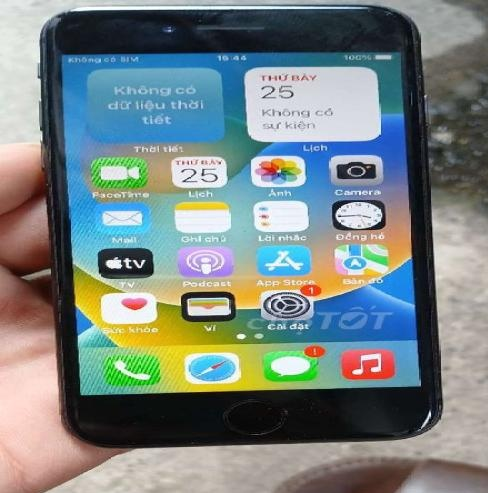scratch: (352, 2, 419, 48), (392, 401, 450, 449)
